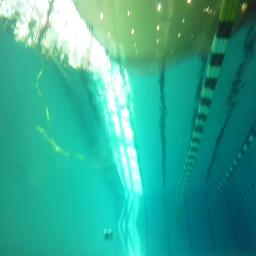front: (103, 227, 113, 239)
